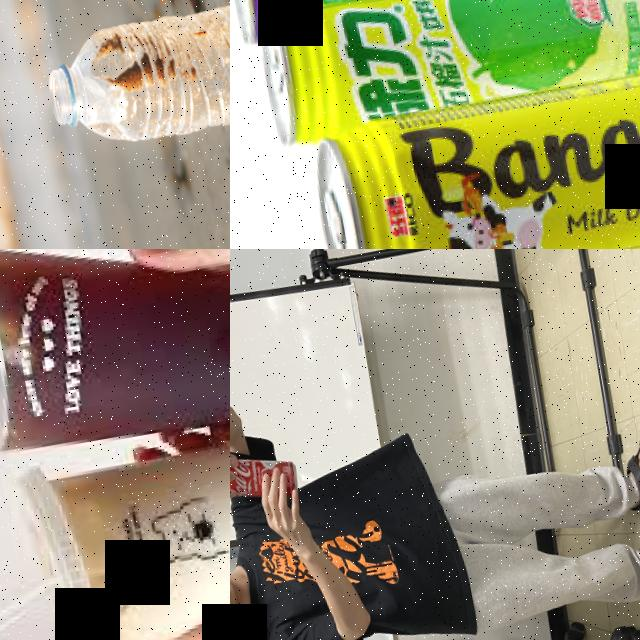bottle: (41, 0, 230, 151)
can: (303, 41, 640, 249), (245, 0, 640, 157), (230, 0, 581, 47), (230, 447, 301, 507)
cup: (0, 249, 230, 480), (8, 415, 230, 640)
